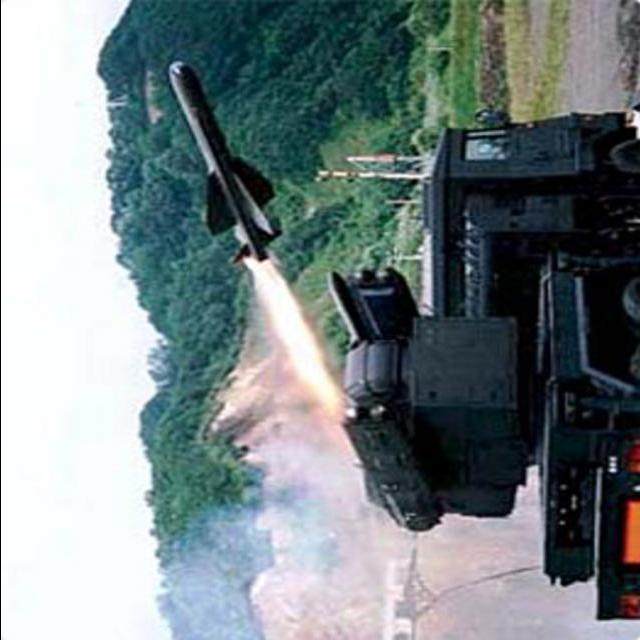missile: (168, 54, 280, 263)
